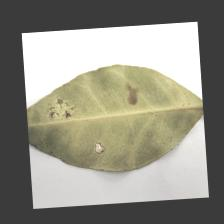black spot: (119, 81, 146, 108)
